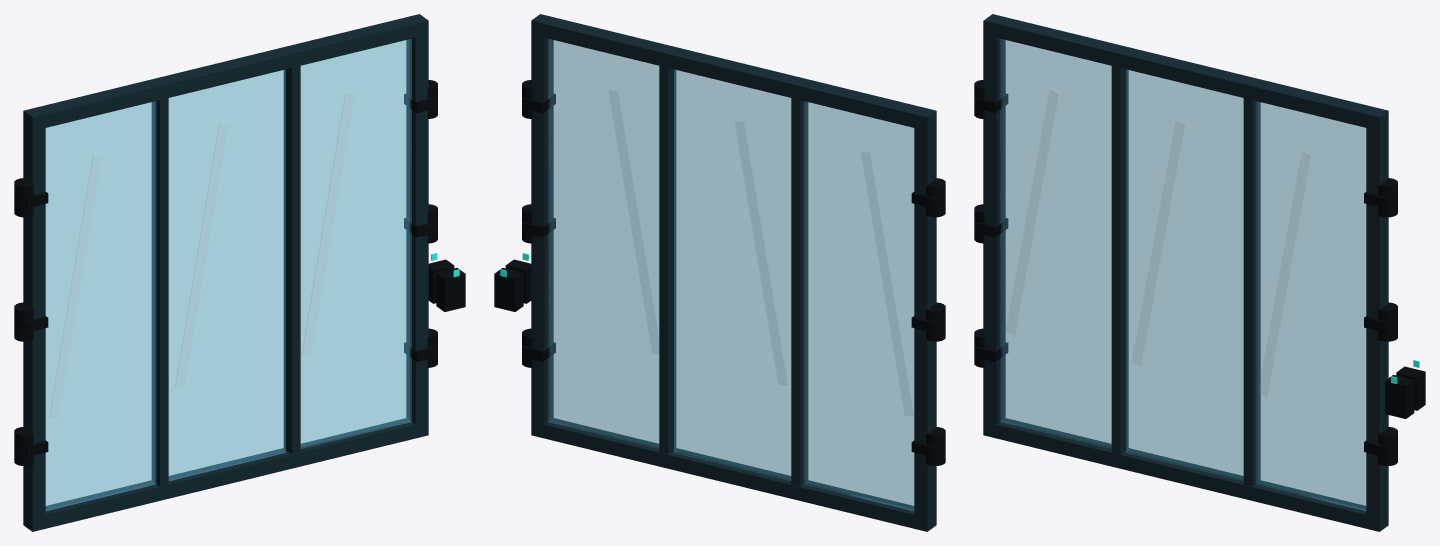
File: screen_window_3pan_2level.glb
3 renders of one model, left to right at view 1: azimuth 30°, elevation 25°; view 2: azimuth 150°, elevation 25°; view 3: azimuth 330°, elevation 25°, orthographic.
Visible parts, largest first — view 1: Glass_Pane_2, Glass_Pane_3, Glass_Pane_1, Frame_Top, Frame_Bottom, Frame_Right, Frame_Left, Mullion_2, Mullion_1, Reflection_Stripe_3, Reflection_Stripe_2, Reflection_Stripe_1 (+5 smaller); view 2: Glass_Pane_2, Glass_Pane_3, Glass_Pane_1, Frame_Top, Frame_Bottom, Frame_Right, Frame_Left, Mullion_2, Mullion_1, Control_Back_Box, Hinge_Left_0.5, Hinge_Left_0.8 (+2 smaller); view 3: Glass_Pane_2, Glass_Pane_1, Glass_Pane_3, Frame_Top, Frame_Bottom, Frame_Left, Frame_Right, Mullion_2, Mullion_1, Reflection_Stripe_1, Reflection_Stripe_2, Reflection_Stripe_3 (+5 smaller).
Boxes of the visible parts, left/top/right/bottom form: Glass_Pane_2: left=168, top=69, right=285, bottom=480; Glass_Pane_3: left=300, top=38, right=411, bottom=448; Glass_Pane_1: left=45, top=101, right=156, bottom=511; Frame_Top: left=23, top=14, right=428, bottom=130; Frame_Bottom: left=23, top=418, right=428, bottom=531; Frame_Right: left=406, top=34, right=428, bottom=424; Frame_Left: left=23, top=124, right=45, bottom=517; Mullion_2: left=283, top=66, right=300, bottom=454; Mullion_1: left=151, top=98, right=168, bottom=486; Reflection_Stripe_3: left=301, top=93, right=354, bottom=356; Reflection_Stripe_2: left=175, top=124, right=227, bottom=387; Reflection_Stripe_1: left=49, top=154, right=101, bottom=417; Glass_Pane_2: left=674, top=69, right=791, bottom=480; Glass_Pane_3: left=548, top=39, right=659, bottom=448; Glass_Pane_1: left=803, top=101, right=914, bottom=511; Frame_Top: left=531, top=14, right=936, bottom=130; Frame_Bottom: left=531, top=418, right=936, bottom=531; Frame_Right: left=531, top=34, right=553, bottom=424; Frame_Left: left=914, top=124, right=936, bottom=517; Mullion_2: left=659, top=66, right=676, bottom=454; Mullion_1: left=791, top=98, right=808, bottom=486; Control_Back_Box: left=494, top=268, right=523, bottom=311; Hinge_Left_0.5: left=926, top=302, right=945, bottom=341; Hinge_Left_0.8: left=926, top=178, right=945, bottom=217; Glass_Pane_2: left=1126, top=69, right=1243, bottom=480; Glass_Pane_1: left=1000, top=39, right=1111, bottom=448; Glass_Pane_3: left=1256, top=101, right=1366, bottom=510; Frame_Top: left=983, top=14, right=1388, bottom=130; Frame_Bottom: left=983, top=418, right=1388, bottom=531; Frame_Left: left=983, top=34, right=1005, bottom=424; Frame_Right: left=1366, top=125, right=1388, bottom=517; Mullion_2: left=1243, top=98, right=1260, bottom=486; Mullion_1: left=1111, top=66, right=1128, bottom=454; Reflection_Stripe_1: left=1006, top=89, right=1058, bottom=334; Reflection_Stripe_2: left=1132, top=120, right=1184, bottom=365; Reflection_Stripe_3: left=1258, top=151, right=1310, bottom=396.
Bounding box in the file's own units: 3.33 × 3 × 0.3008.
